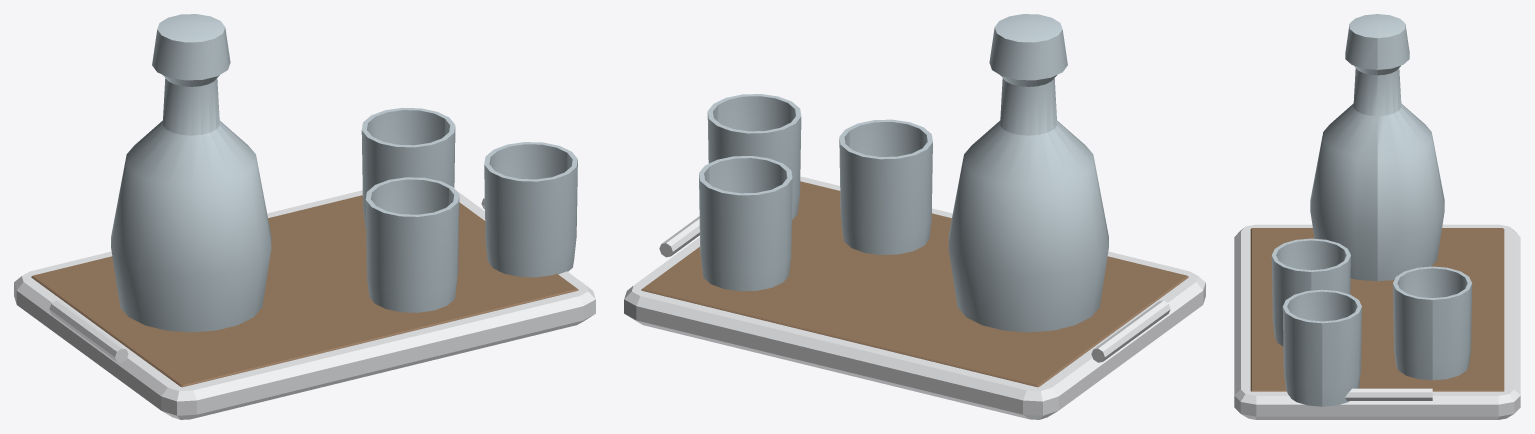
The model's file is police-station-and-detective-office-drinks-tray-4f5a2f9d__29986.glb.
3 renders of one model, left to right at view 1: azimuth 30°, elevation 25°; view 2: azimuth 150°, elevation 25°; view 3: azimuth 270°, elevation 25°, orthographic. The views are drawn at different scales.
Visible parts, largest first — view 1: drinks-tray; view 2: drinks-tray; view 3: drinks-tray.
Part boxes in pixels (<box>): drinks-tray: <box>14,14,595,419</box>; drinks-tray: <box>624,14,1205,419</box>; drinks-tray: <box>1234,14,1520,419</box>.
Size of the model in its own units: 0.402 by 0.268 by 0.26.
